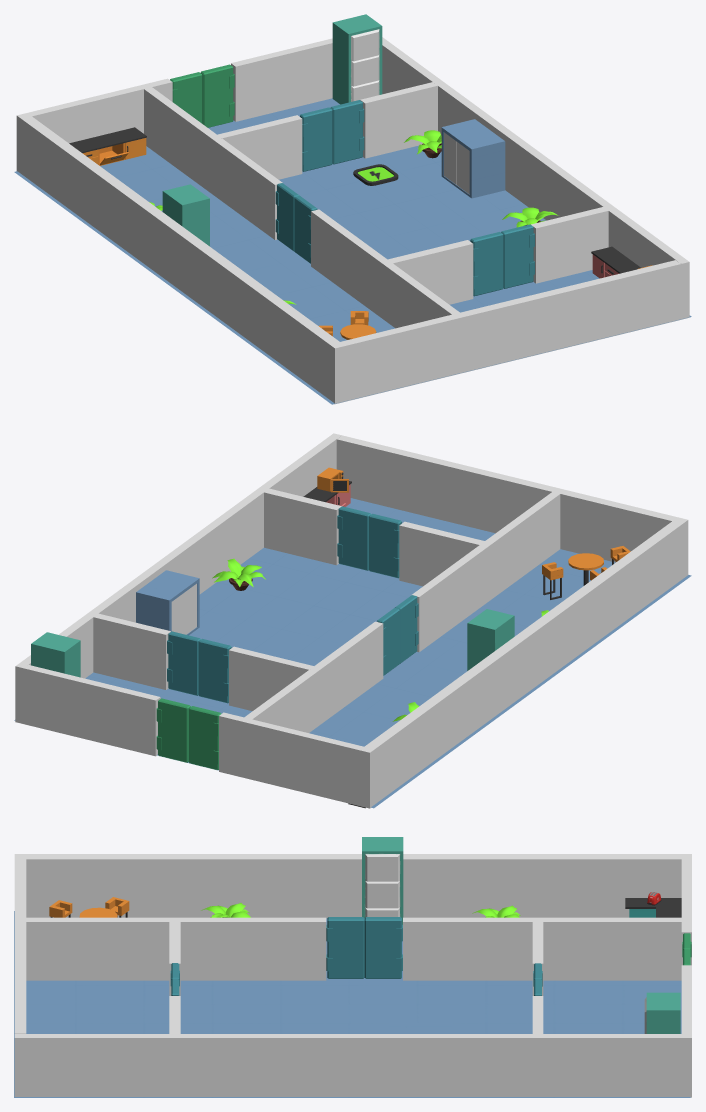
The model's file is maps_15.fbx.
3 renders of one model, top to bottom at view 1: azimuth 30°, elevation 25°; view 2: azimuth 150°, elevation 25°; view 3: azimuth 270°, elevation 25°, orthographic. The views are drawn at different scales.
Parts seen in each view (by area): view 1: polySurface158, polySurface154, polySurface157, polySurface156, polySurface192, polySurface191, polySurface160, polySurface159, polySurface150, polySurface153, polySurface189, polySurface152 (+16 smaller); view 2: polySurface158, polySurface157, polySurface154, polySurface156, polySurface159, polySurface191, polySurface160, polySurface192, polySurface150, polySurface153, polySurface152, polySurface151 (+16 smaller); view 3: polySurface156, polySurface157, polySurface158, polySurface191, polySurface192, polySurface190, polySurface174, polySurface177, polySurface154, polySurface189, ban_ghe2, polySurface159 (+8 smaller).
Boxes of the visible parts, x1=… form: polySurface158: x1=14, y1=98, x2=691, y2=404; polySurface154: x1=329, y1=260, x2=681, y2=404; polySurface157: x1=17, y1=113, x2=343, y2=399; polySurface156: x1=382, y1=37, x2=689, y2=319; polySurface192: x1=144, y1=87, x2=282, y2=239; polySurface191: x1=311, y1=209, x2=459, y2=328; polySurface160: x1=231, y1=38, x2=332, y2=121; polySurface159: x1=16, y1=78, x2=172, y2=173; polySurface150: x1=360, y1=82, x2=437, y2=158; polySurface153: x1=531, y1=207, x2=608, y2=283; polySurface189: x1=332, y1=14, x2=382, y2=104; polySurface152: x1=388, y1=240, x2=473, y2=304; polySurface158: x1=14, y1=498, x2=691, y2=808; polySurface157: x1=360, y1=521, x2=684, y2=804; polySurface154: x1=336, y1=435, x2=688, y2=578; polySurface156: x1=15, y1=433, x2=341, y2=723; polySurface159: x1=219, y1=712, x2=374, y2=808; polySurface191: x1=412, y1=492, x2=560, y2=652; polySurface160: x1=23, y1=665, x2=160, y2=756; polySurface192: x1=244, y1=621, x2=383, y2=732; polySurface150: x1=93, y1=613, x2=170, y2=689; polySurface153: x1=264, y1=488, x2=341, y2=565; polySurface152: x1=399, y1=521, x2=484, y2=586; polySurface151: x1=229, y1=646, x2=313, y2=710; polySurface156: x1=14, y1=1034, x2=691, y2=1097; polySurface157: x1=14, y1=854, x2=691, y2=918; polySurface158: x1=14, y1=911, x2=690, y2=1097; polySurface191: x1=25, y1=917, x2=326, y2=980; polySurface192: x1=403, y1=917, x2=681, y2=980; polySurface190: x1=362, y1=837, x2=403, y2=924; polySurface174: x1=364, y1=917, x2=402, y2=978; polySurface177: x1=326, y1=917, x2=364, y2=978; polySurface154: x1=14, y1=854, x2=26, y2=1033; polySurface189: x1=644, y1=992, x2=680, y2=1033; ban_ghe2: x1=49, y1=897, x2=129, y2=917; polySurface159: x1=681, y1=854, x2=691, y2=965.
Size of the model in its own units: 59.86 by 13.13 by 91.75.
Materials: 10 (10 with a texture image).
